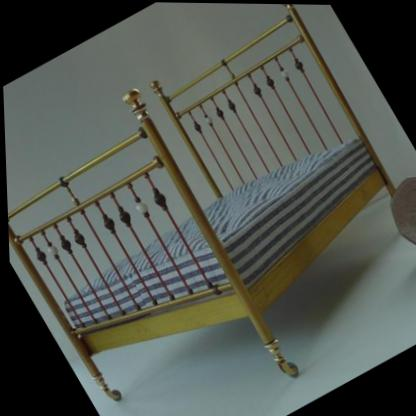Bed: (6, 3, 395, 377)
